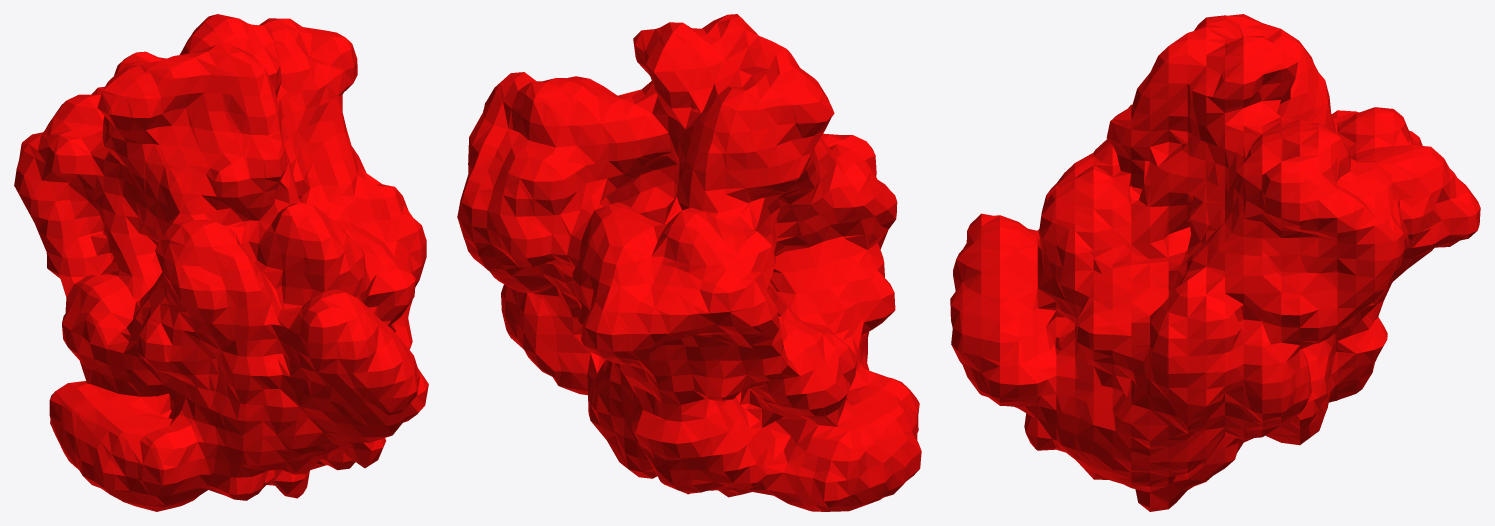
Rendered from acrB_coarse.dae.
The picture shows the model from 3 angles, left to right: view 1: azimuth 30°, elevation 25°; view 2: azimuth 150°, elevation 25°; view 3: azimuth 270°, elevation 25°; orthographic projection. The views are drawn at different scales.
Visible parts, largest first — view 1: acrB; view 2: acrB; view 3: acrB.
Boxes of the visible parts, <box> form: acrB: <box>14,14,428,511</box>; acrB: <box>457,14,921,511</box>; acrB: <box>950,14,1480,511</box>.
Size of the model in its own units: 113 by 145 by 151.
